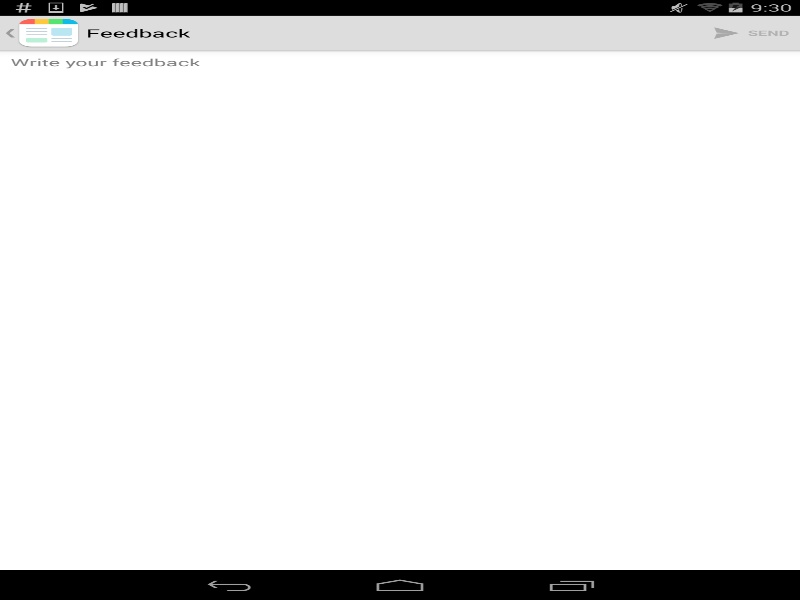Input: (0, 50, 800, 570)
